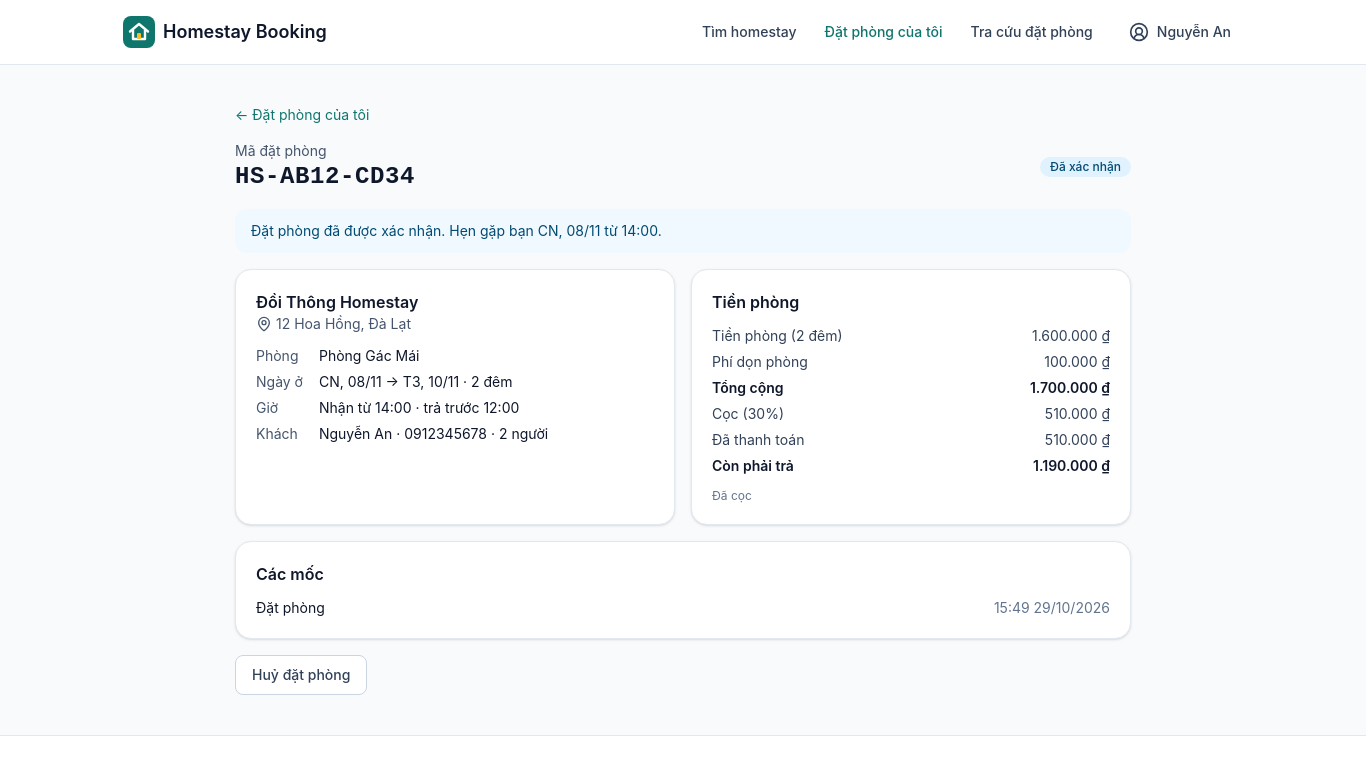
Test: đặt phòng của tôi › huỷ: xem trước số hoàn → xác nhận → trạng thái Đã huỷ
This screenshot has width=1366, height=762.
Expected: the text "Đặt phòng đã được xác nhận. Hẹn gặp bạn CN, 08/11 từ 14:00." is shown, [235,209,1131,253]
Click the button "Huỷ đặt phòng".
click(301, 675)  # box [235,655,367,695]
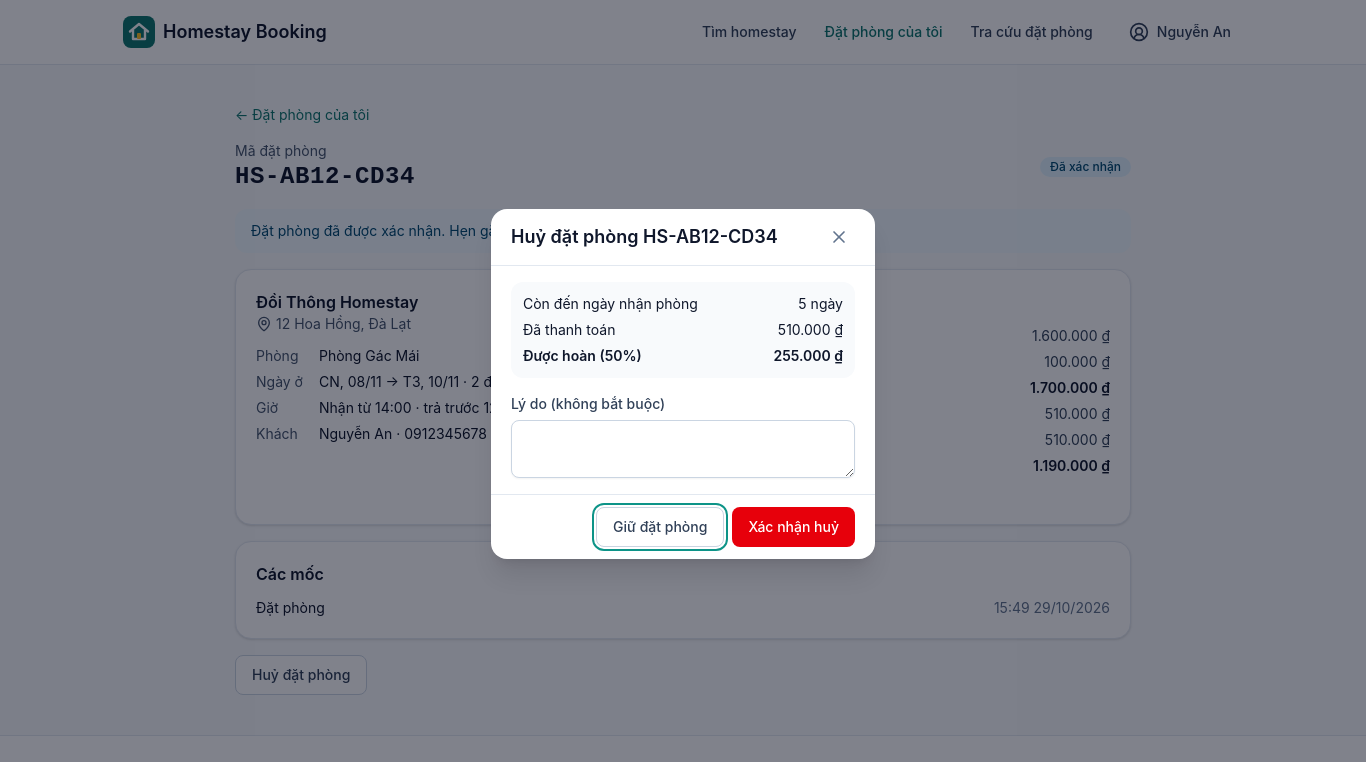
Expected: the text "Được hoàn (50%)" is shown, [523,346,642,366]
Expected: the text "255.000 ₫" is shown, [773,346,843,366]
Type "Đổi kế hoạch" into the text box labelled "Lý do (không bắt buộc)".
click(683, 449); type("Đổi kế hoạch")  # box [511,420,855,478]
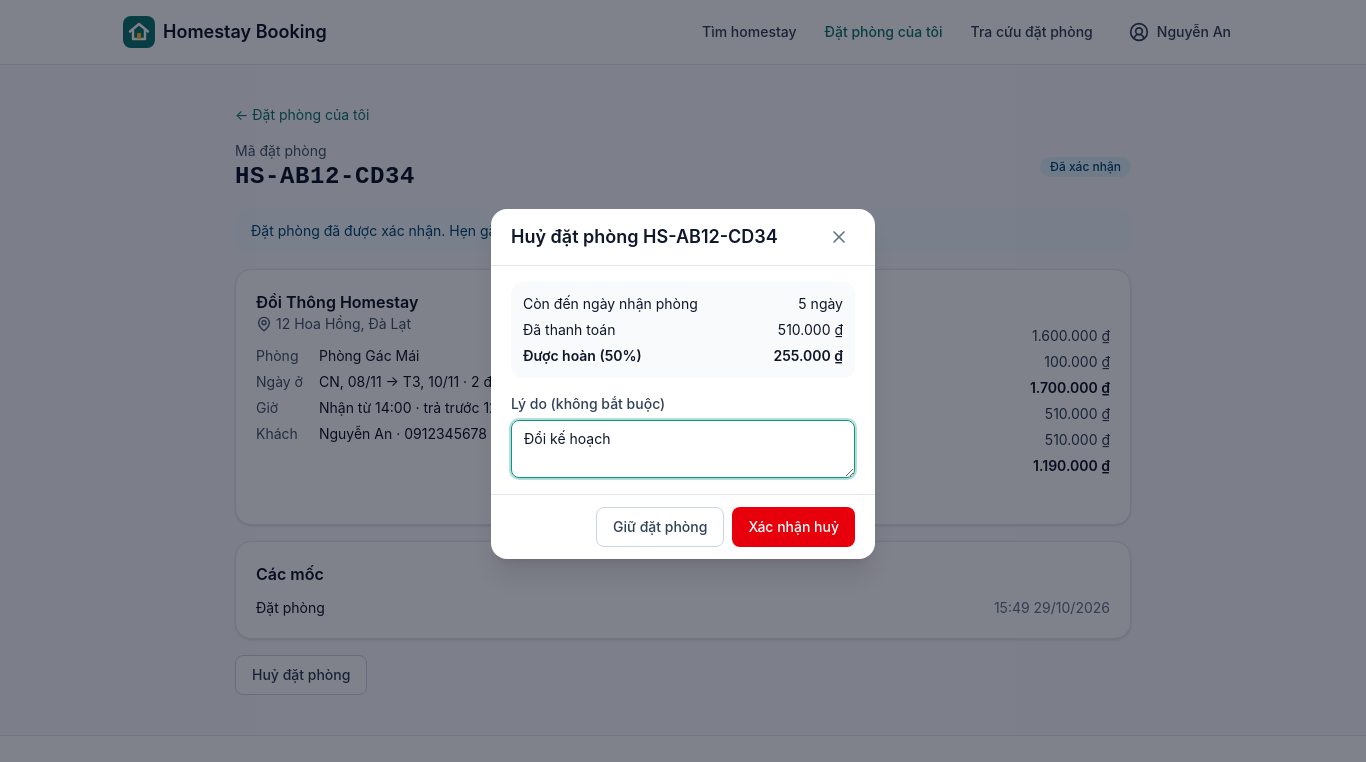
Click the button "Xác nhận huỷ".
click(794, 527)  # box [732,507,855,547]
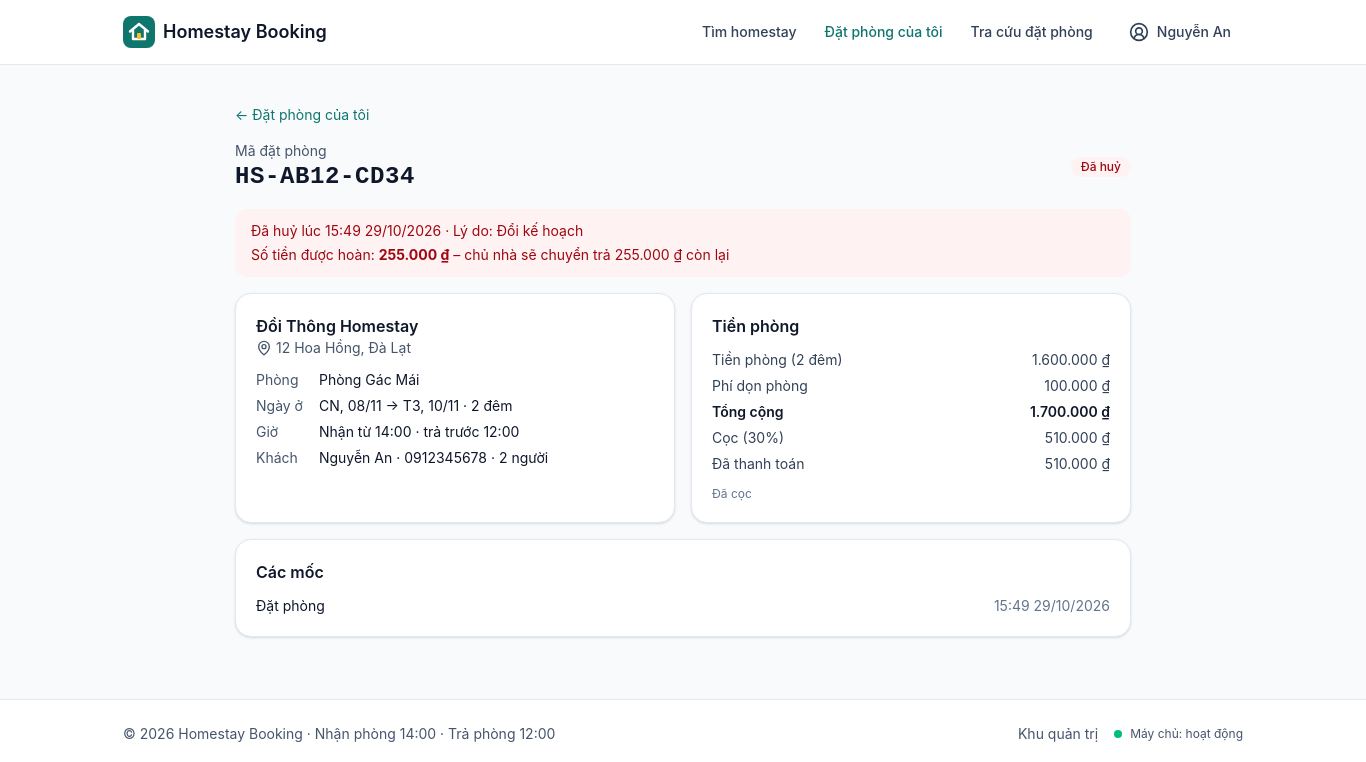
Expected: the dialog is gone
Expected: the text "Đã huỷ" is shown, [1071,157,1131,177]
Expected: the text "chủ nhà sẽ chuyển trả" is shown, [449,246,729,263]
